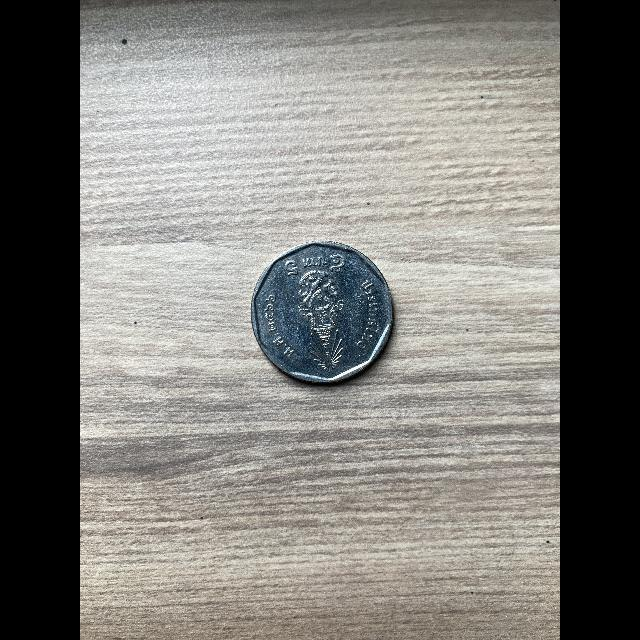5 Bath: (252, 240, 399, 388)
